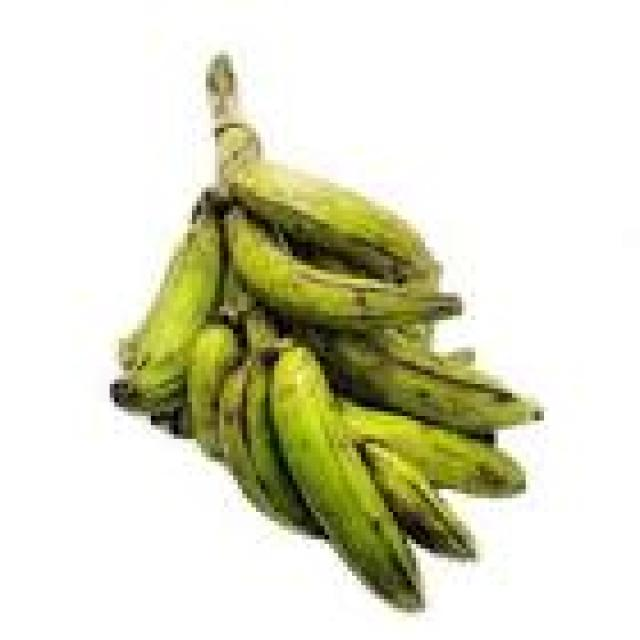banana: (270, 348, 420, 607), (224, 211, 461, 329), (229, 160, 438, 283), (110, 192, 219, 411), (311, 334, 539, 434), (339, 398, 525, 498), (220, 357, 319, 534), (247, 352, 319, 534), (366, 444, 475, 557), (220, 362, 269, 511), (188, 325, 242, 457), (220, 261, 255, 329), (302, 247, 365, 274), (243, 307, 278, 351), (151, 407, 191, 438), (444, 348, 475, 365)
